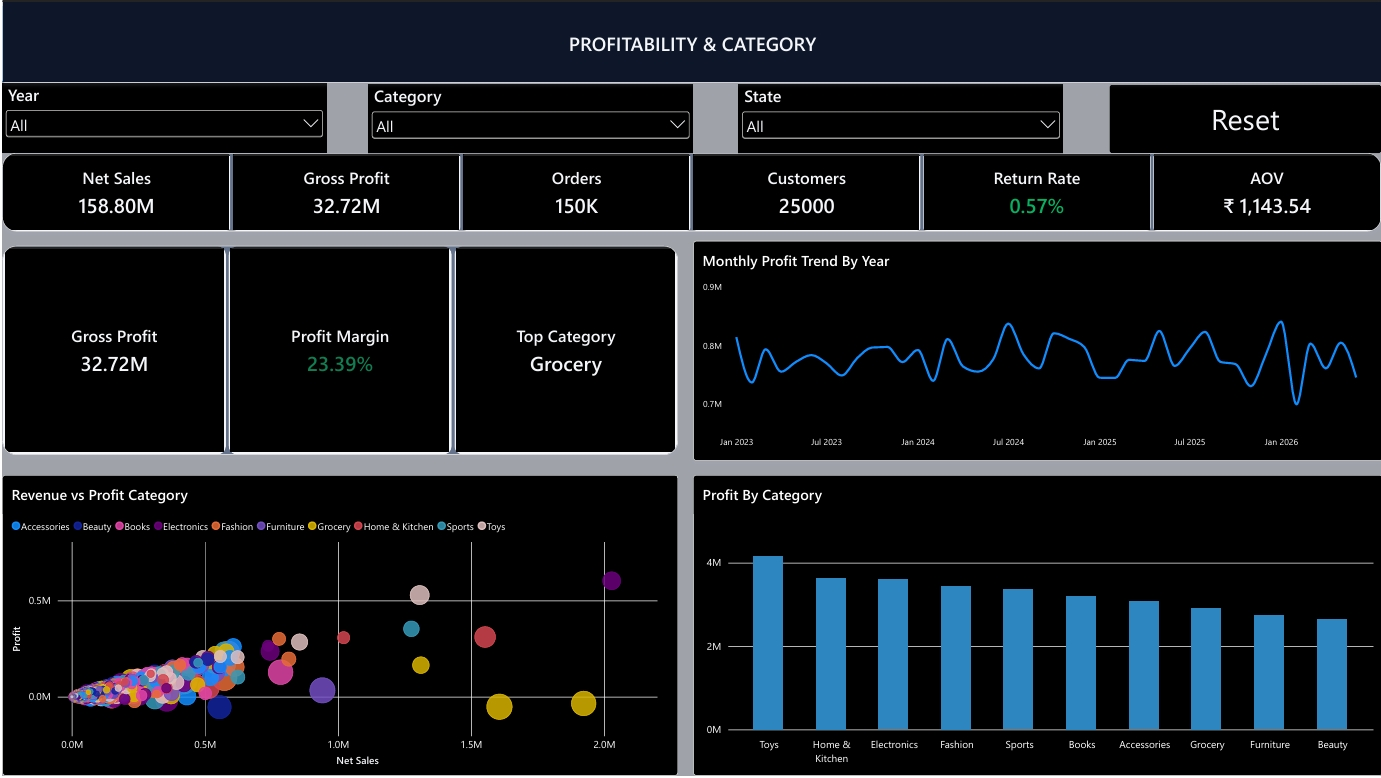

The dashboard page shown, as its layout file describes it:
{"tool":"powerbi","page":{"name":"Page 3","canvas":[1920,1080],"ordinal":2},"visuals":[{"type":"cardVisual","fields":{"Data":["Measure.Profit","Measure.ProfitMArgin","Measure.TopCategory"]},"box":[0,343.3,940.4,291.1],"z":0},{"type":"columnChart","title":"Profit By Category","fields":{"Category":["categories.category_name"],"Y":["Measure.Profit"]},"box":[961,662.4,959.1,418],"z":1000},{"type":"scatterChart","title":"Revenue vs Profit Category","fields":{"Category":["products.product_name"],"Series":["categories.category_name"],"Size":["Measure.Total Units"],"X":["Measure.Net sales bf tax"],"Y":["Measure.Profit"]},"box":[0,662.4,940.4,418],"z":2000},{"type":"shape","box":[0,10.3,1919.6,104.9],"z":3000},{"type":"slicer","fields":{"Values":["DimDate.Year"]},"box":[0,116.9,450.8,96],"z":4000},{"type":"slicer","fields":{"Values":["categories.category_name"]},"box":[509.4,119.4,451.6,95.2],"z":5000},{"type":"slicer","fields":{"Values":["orders.shipping_state"]},"box":[1024.4,119.4,451.6,98.9],"z":6000},{"type":"actionButton","box":[1539.6,119.4,378.7,94.7],"z":7000},{"type":"cardVisual","fields":{"Data":["Measure.Netsales Af Refund","Measure.Profit","Measure.Total Orders","Measure.Total Customers","Measure.ReturnRate","DimDate.AOV"]},"box":[0,214.1,1918.4,109.1],"z":8000},{"type":"lineChart","title":"Monthly Profit Trend By Year","fields":{"Category":["DimDate.Date.Variation.Date Hierarchy.Year","DimDate.Date.Variation.Date Hierarchy.Month"],"Y":["Measure.Profit"]},"box":[961,335.9,959.1,306],"z":9000},{"type":"cardVisual","fields":{"Data":["Measure.PROFITABILITY CATEGORY TITLE"]},"box":[0,0,1918.2,115.7],"z":10000}]}

Visuals, with their boxes in screenshot pixels (x1, y1, x2, y2), scaled from the page's 1920x1080 canvas onto the 1381x778 screenshot:
cardVisual - Measure.Profit x Measure.ProfitMArgin: rect(0, 247, 676, 457)
"Profit By Category" columnChart: rect(691, 477, 1380, 777)
"Revenue vs Profit Category" scatterChart: rect(0, 477, 676, 777)
shape: rect(0, 7, 1380, 83)
slicer - DimDate.Year: rect(0, 84, 324, 153)
slicer - categories.category_name: rect(366, 86, 691, 155)
slicer - orders.shipping_state: rect(737, 86, 1062, 157)
actionButton: rect(1107, 86, 1380, 154)
cardVisual - Measure.Netsales Af Refund x Measure.Profit: rect(0, 154, 1380, 233)
"Monthly Profit Trend By Year" lineChart: rect(691, 242, 1380, 462)
cardVisual - Measure.PROFITABILITY CATEGORY TITLE: rect(0, 0, 1380, 83)
